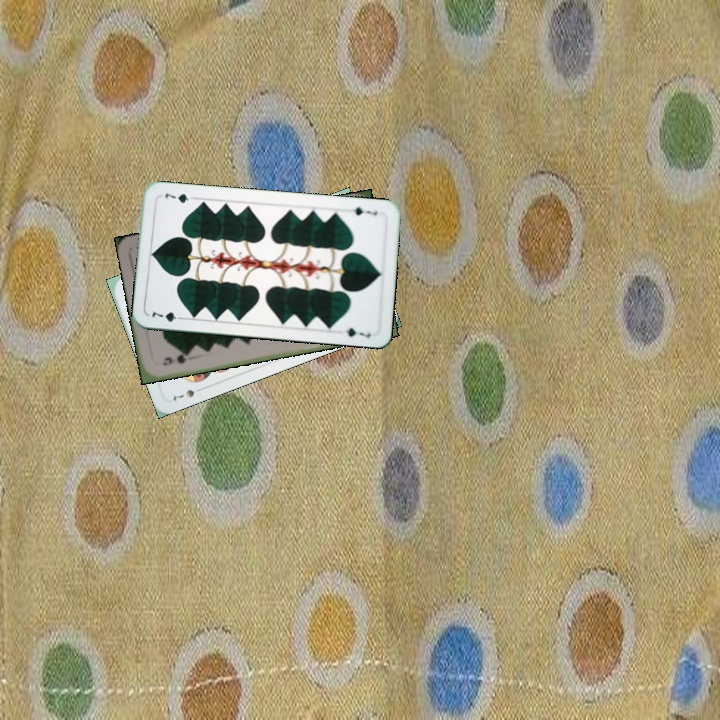G7: (148, 308, 187, 324), (344, 202, 380, 218)
G9: (159, 350, 192, 368)
S7: (168, 383, 207, 404)
